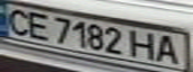1: (66, 18, 87, 47)
2: (103, 25, 127, 56)
7: (48, 15, 72, 44)
8: (84, 21, 106, 52)
A: (151, 33, 184, 64)
C: (0, 6, 33, 37)
E: (21, 9, 54, 40)
H: (127, 29, 160, 61)
